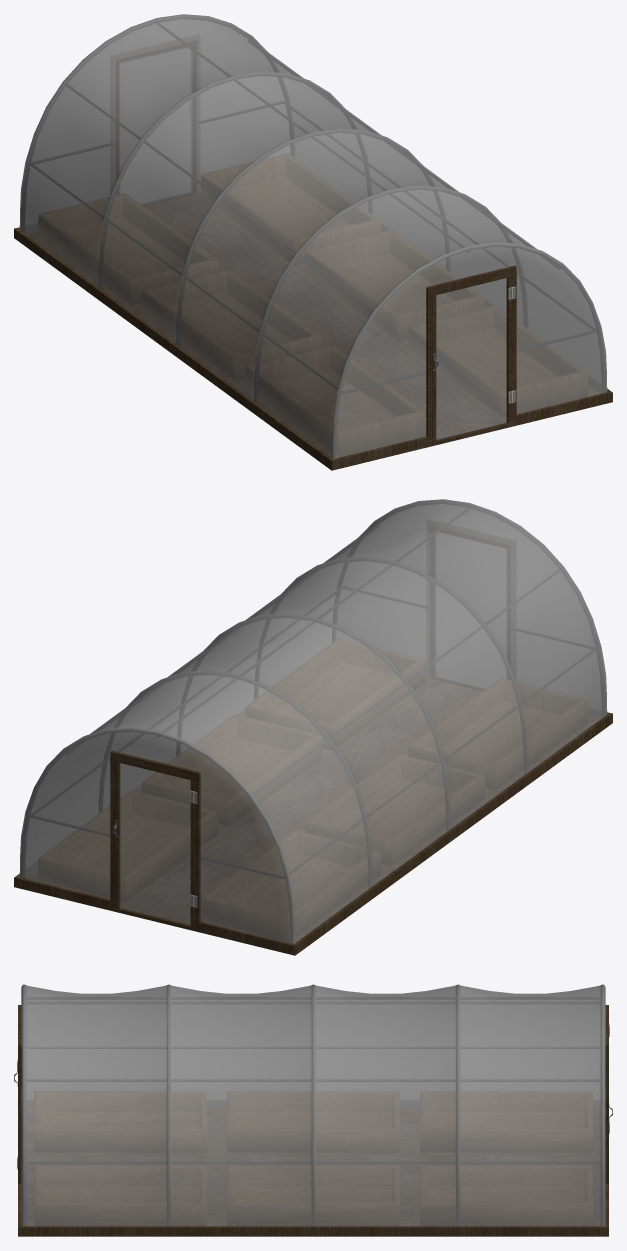
Rendered from low_poly_generic_green_house.glb.
3 renders of one model, top to bottom at view 1: azimuth 30°, elevation 25°; view 2: azimuth 150°, elevation 25°; view 3: azimuth 270°, elevation 25°, orthographic. The views are drawn at different scales.
Parts seen in each view (by area): view 1: Circle.004, Cube.001, Cube.004, Cube.002, Circle.001, Circle.009, Circle.005, Circle.008, Circle.006, Circle.007; view 2: Circle.004, Cube.001, Cube.004, Cube.002, Circle.001, Circle.009, Circle.005, Circle.008, Circle.006, Circle.007; view 3: Circle.004, Cube.001, Cube.004, Cube.002, Circle.001, Circle.006, Circle.007, Circle.009, Circle.008, Circle.005.
Boxes of the visible parts, box(x1,y1,x2,y2) form: Circle.004: box(19, 14, 607, 458); Cube.001: box(38, 154, 588, 456); Cube.004: box(28, 193, 598, 457); Cube.002: box(14, 41, 612, 470); Circle.001: box(21, 15, 605, 458); Circle.009: box(66, 84, 378, 313); Circle.005: box(31, 163, 342, 392); Circle.008: box(157, 23, 469, 251); Circle.006: box(284, 102, 595, 329); Circle.007: box(248, 40, 560, 269); Circle.004: box(19, 499, 607, 943); Cube.001: box(38, 639, 588, 941); Cube.004: box(28, 678, 598, 942); Cube.002: box(14, 526, 612, 955); Circle.001: box(21, 500, 605, 943); Circle.009: box(248, 569, 560, 798); Circle.005: box(284, 648, 595, 877); Circle.008: box(157, 508, 469, 736); Circle.006: box(31, 587, 342, 814); Circle.007: box(66, 525, 378, 754); Circle.004: box(21, 984, 605, 1226); Cube.001: box(34, 1091, 592, 1225); Cube.004: box(21, 1109, 605, 1225); Cube.002: box(18, 1005, 608, 1236); Circle.001: box(22, 985, 604, 1225); Circle.006: box(27, 1161, 600, 1163); Circle.007: box(27, 1079, 600, 1081); Circle.009: box(27, 997, 600, 999); Circle.008: box(27, 1002, 600, 1003); Circle.005: box(27, 1047, 600, 1048).
Size of what is drawn, in the model's own units: 3.13 by 2 by 6.21.
Materials: 7 (4 with a texture image).
